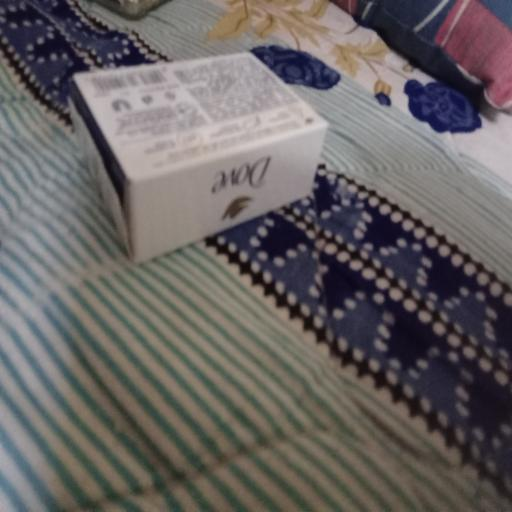Dove`1: (58, 13, 351, 271)
